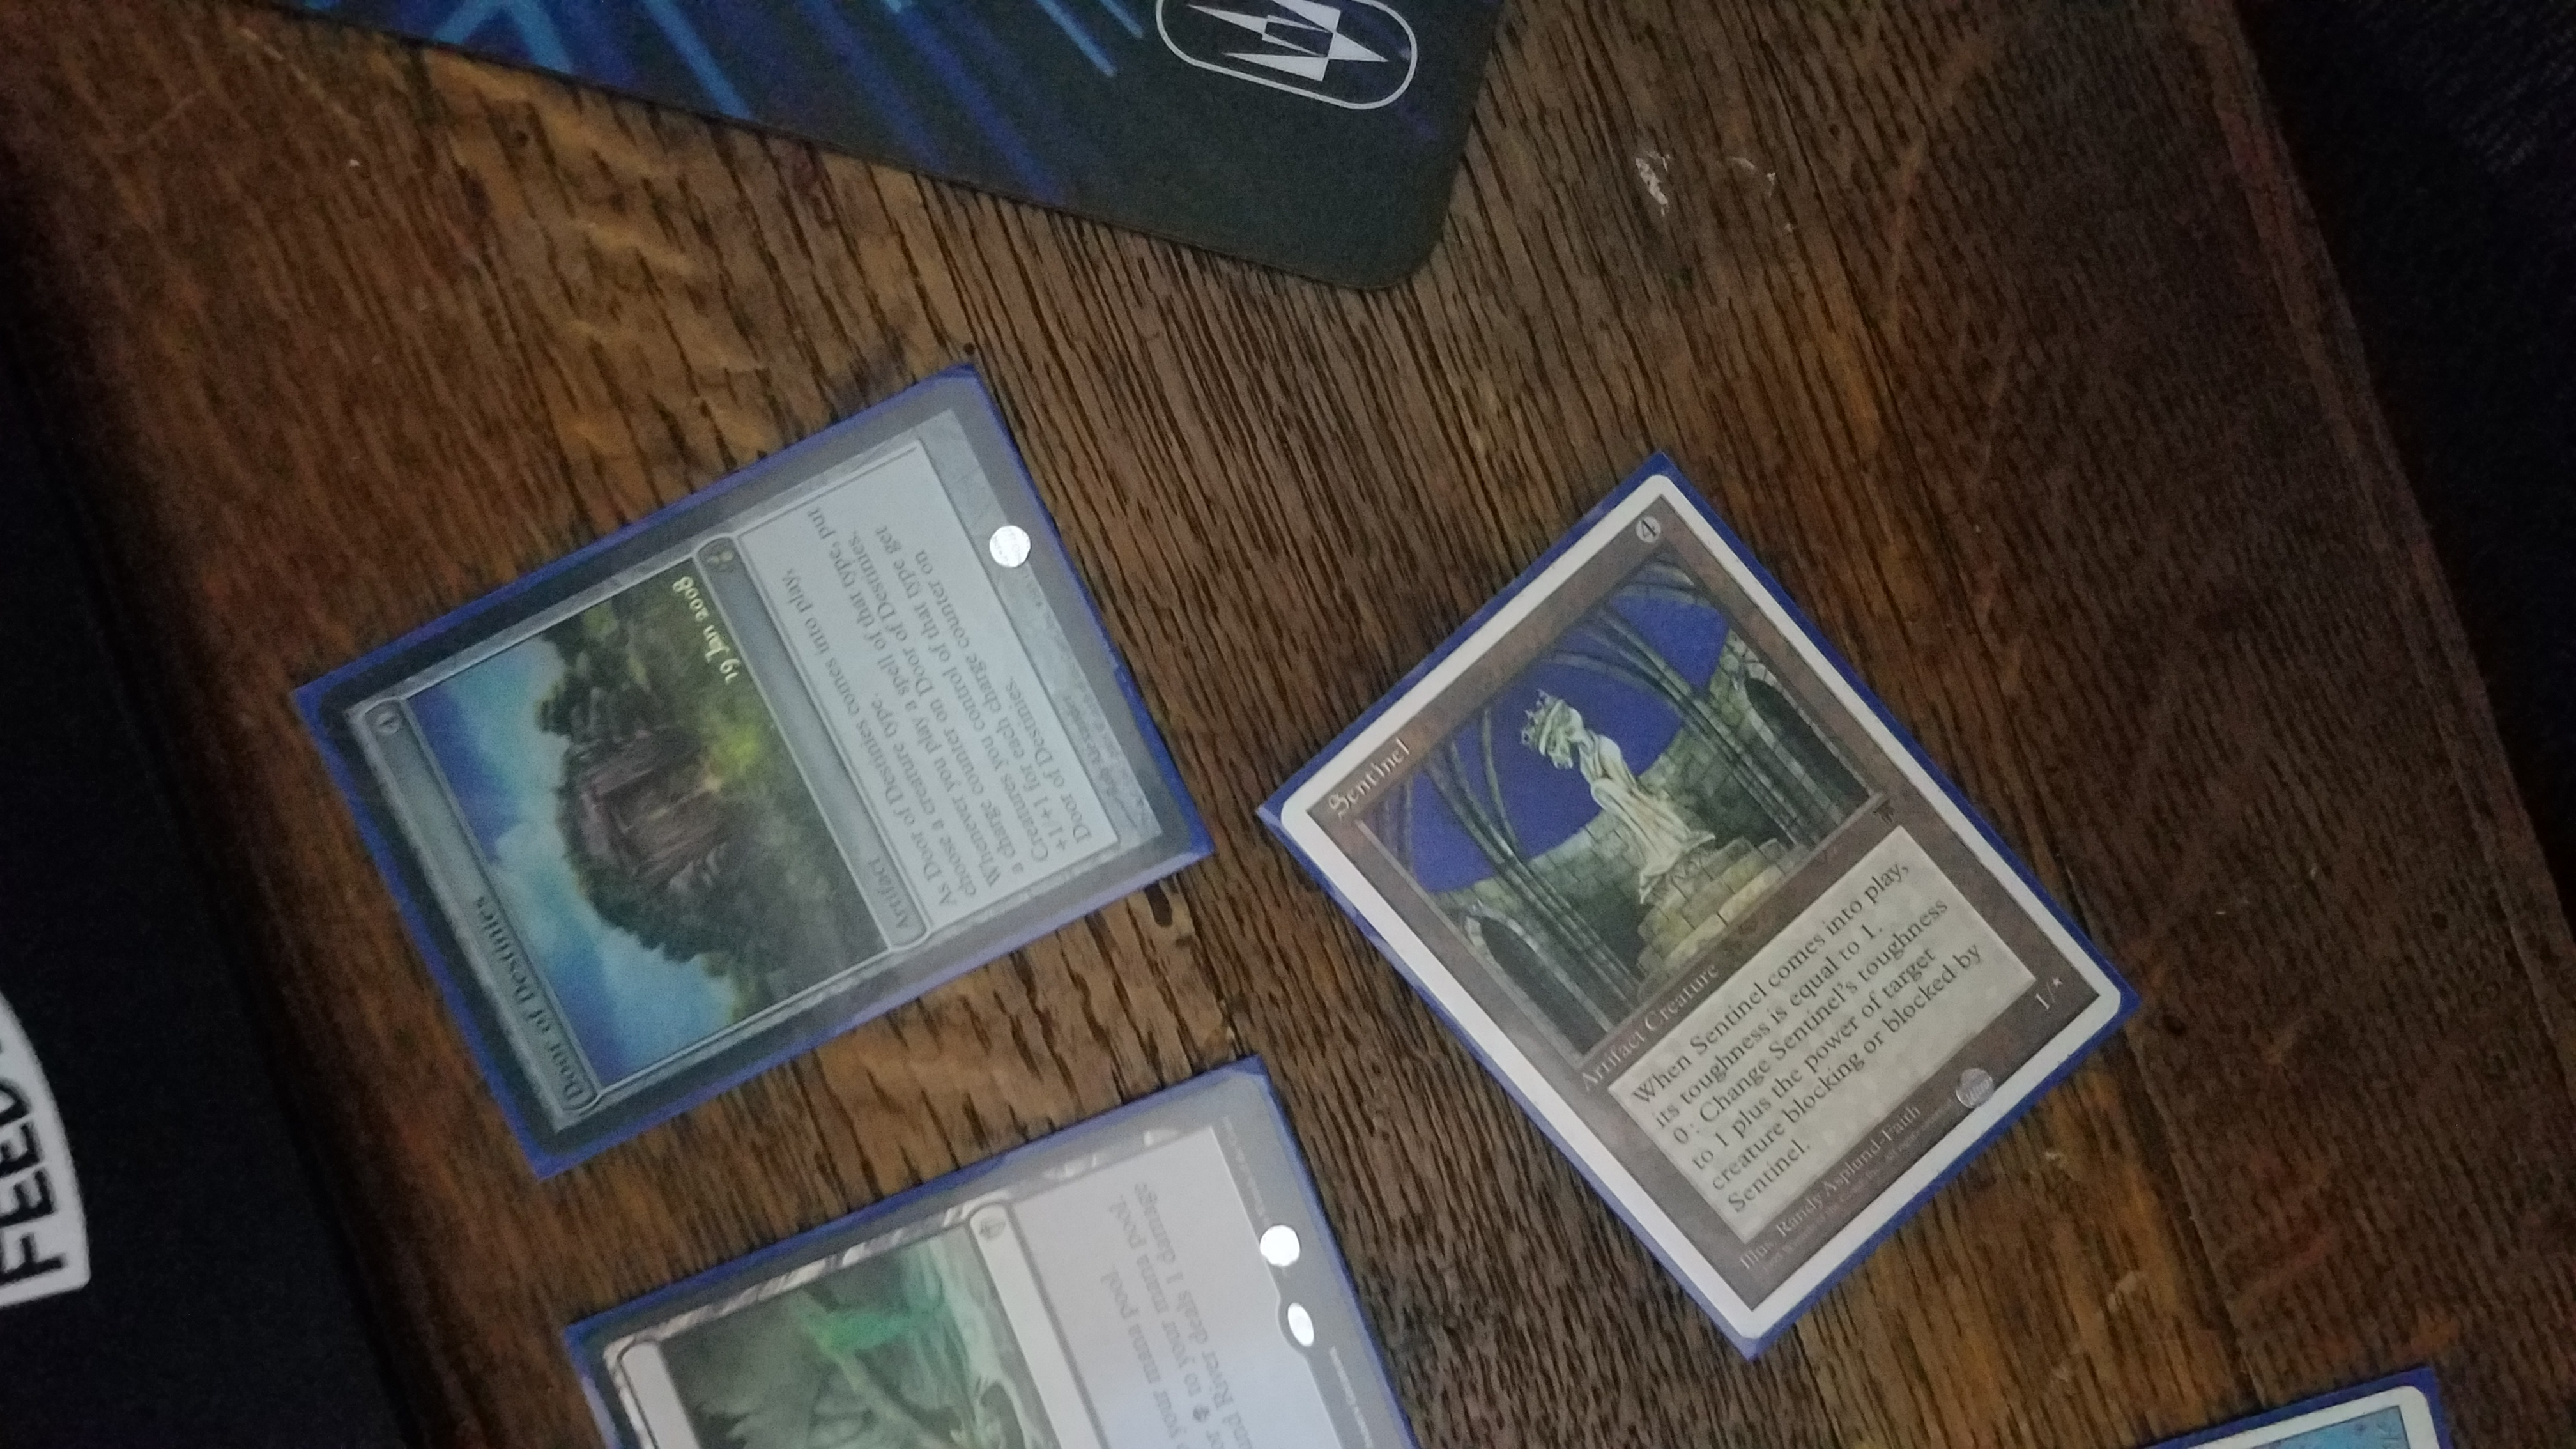Card: (1276, 469, 2125, 1352), (341, 400, 1187, 1141)
